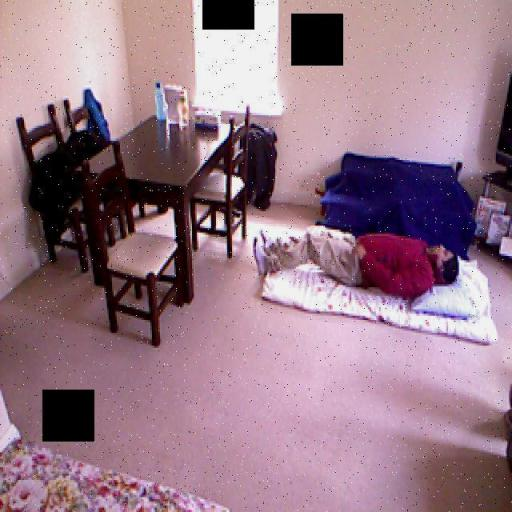Fall: (251, 227, 458, 304)
